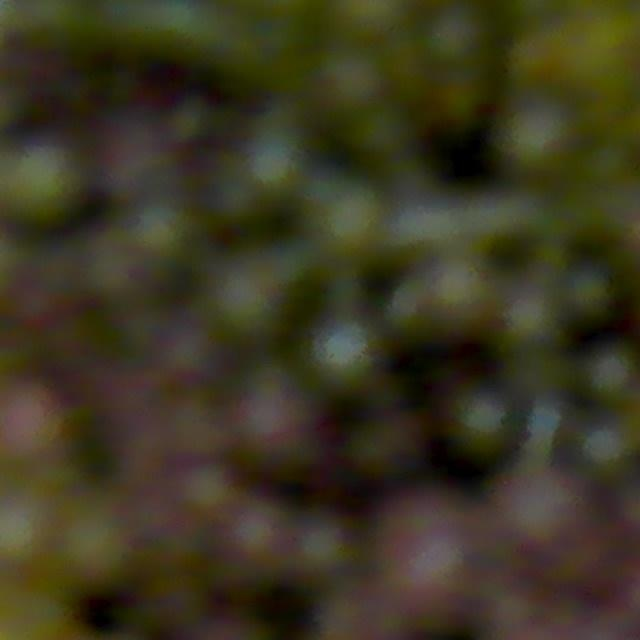SeaGrape: (372, 498, 480, 626), (500, 478, 604, 586), (497, 95, 580, 185), (232, 374, 320, 458), (216, 502, 304, 582), (57, 504, 134, 586), (309, 178, 389, 256), (210, 259, 286, 338), (421, 0, 495, 76), (0, 382, 69, 461), (353, 407, 428, 479), (311, 315, 378, 390), (239, 121, 306, 196), (0, 488, 57, 568), (323, 49, 382, 121), (339, 0, 415, 41), (178, 462, 235, 516), (436, 73, 484, 124)
